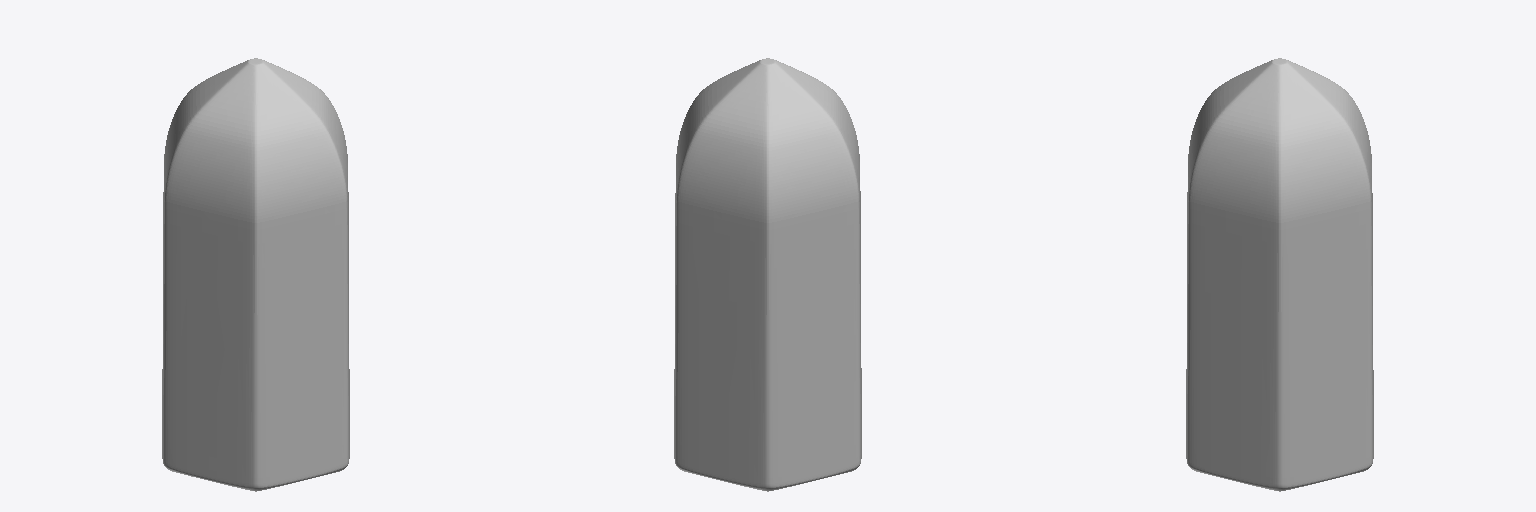
The model's file is Pawn1.obj.
3 views of the same model, side by side, from view 1: azimuth 30°, elevation 25°; view 2: azimuth 150°, elevation 25°; view 3: azimuth 270°, elevation 25° (orthographic).
Parts seen in each view (by area): view 1: Pawn; view 2: Pawn; view 3: Pawn.
Part boxes in pixels (x1,y1,x2,y2): Pawn: (162, 58, 349, 491); Pawn: (674, 58, 861, 491); Pawn: (1186, 58, 1373, 491).
Size of the model in its own units: 2.42 by 4.92 by 2.15.